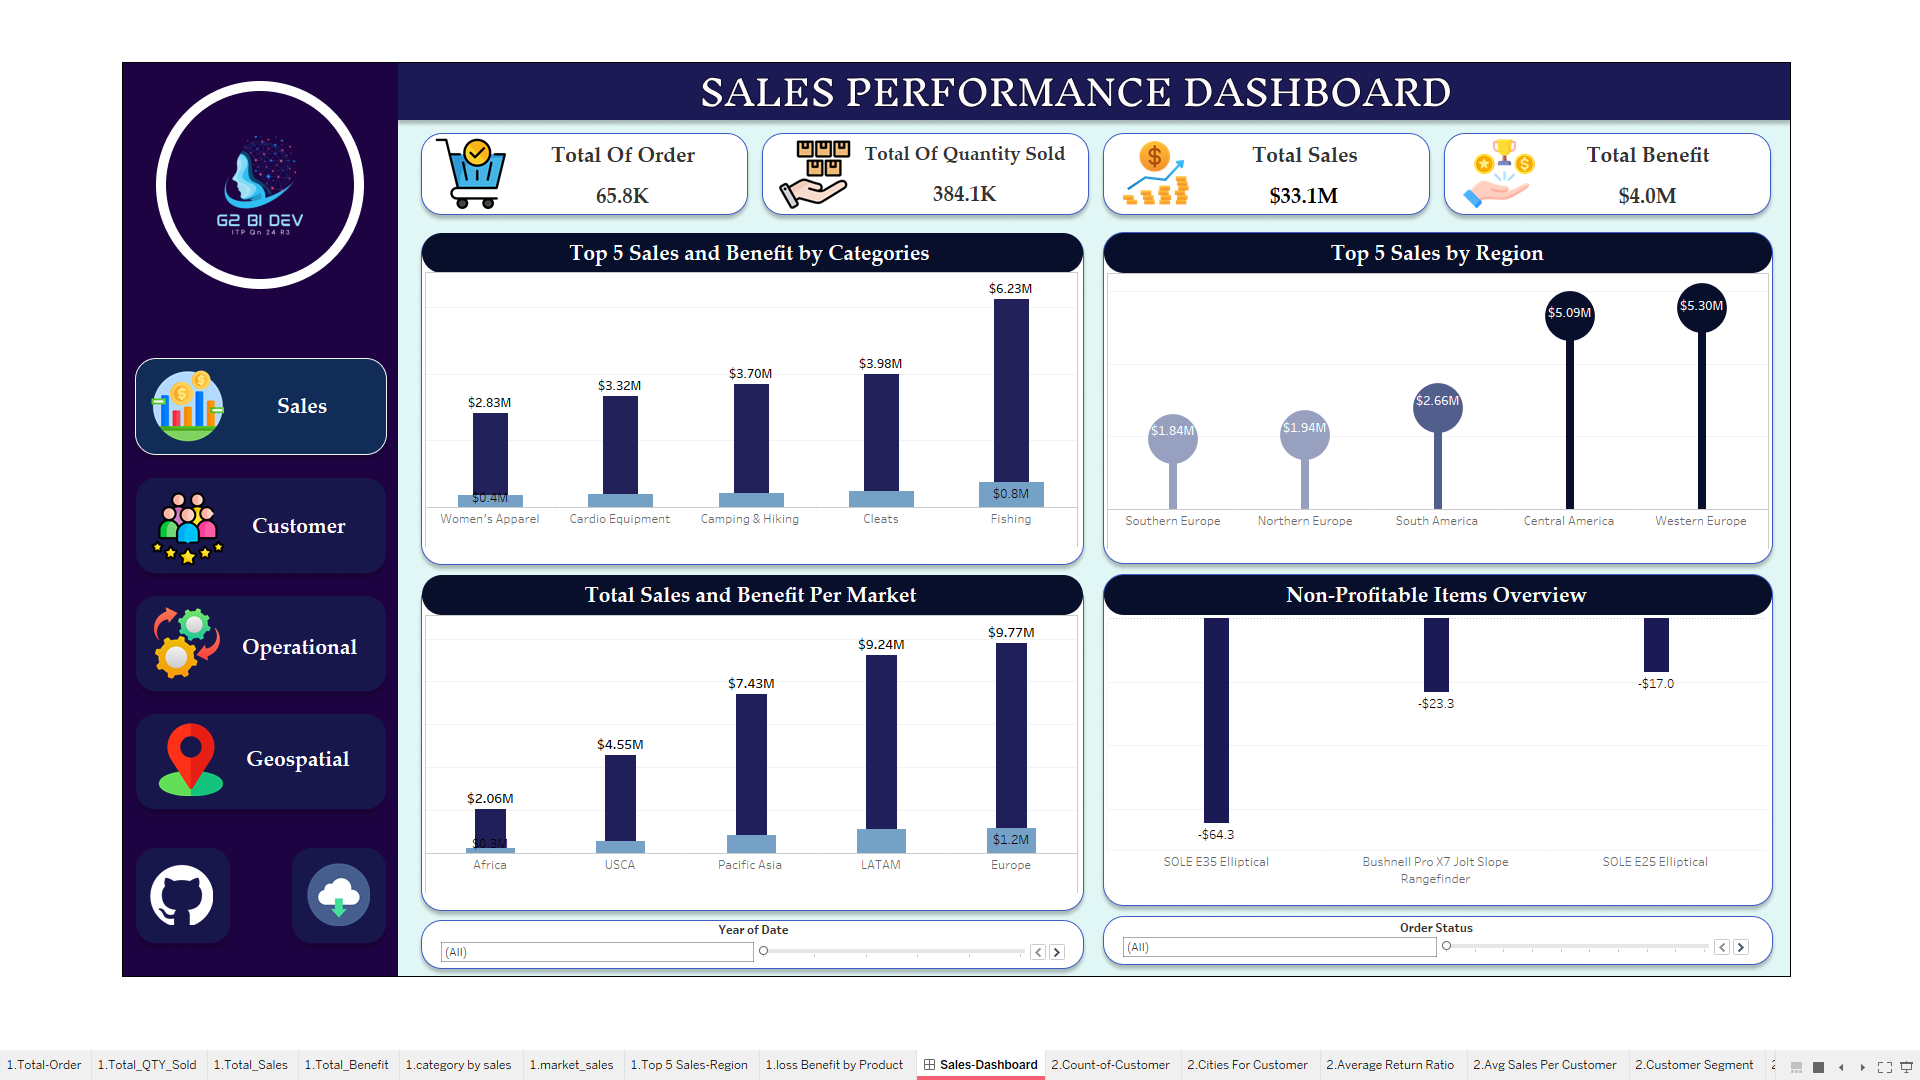

This screenshot's page, from the dashboard's own definition file:
{"tool":"tableau","page":{"name":"Sales-Dashboard","canvas":[1700,950],"ordinal":4},"visuals":[{"type":"image","param":"C:/Users/mahmo/OneDrive/Desktop/Sales/background/New folder (2)/Sales.png","box":[8,8,1684,934]},{"type":"image","param":"C:/Users/mahmo/OneDrive/Desktop/Sales-project/ICONS/total_order.png","box":[321,86,80,75]},{"type":"worksheet","title":"1.Total-Order","mark":"Automatic","box":[408,86,210,75]},{"type":"worksheet","title":"1.Total_QTY_Sold","mark":"Automatic","box":[750,86,210,75]},{"type":"image","param":"C:/Users/mahmo/OneDrive/Desktop/Sales-project/ICONS/total_sales.png","box":[1006,86,80,75]},{"type":"worksheet","title":"1.Total_Sales","mark":"Automatic","box":[1090,86,210,75]},{"type":"image","param":"C:/Users/mahmo/OneDrive/Desktop/Sales-project/ICONS/total_benefit.png","box":[1349,86,80,75]},{"type":"worksheet","title":"1.Total_Benefit","mark":"Automatic","box":[1433,86,210,75]},{"type":"image","param":"C:/Users/mahmo/OneDrive/Desktop/Sales-project/ICONS/total_QTY.png","box":[665,88,80,73]},{"type":"text","box":[1015,183,625,38]},{"type":"text","box":[325,184,629,36]},{"type":"worksheet","title":"1.category by sales","mark":"Automatic","rows":["Total_Sales","BenifitPerOrder"],"cols":["Category_Name"],"box":[315,222,653,276]},{"type":"worksheet","title":"1.Top 5 Sales-Region","mark":"Automatic","rows":["Total_Sales","Total_Sales"],"cols":["Rejon_Name"],"box":[997,223,662,277]},{"type":"image","param":"C:/Users/mahmo/OneDrive/Desktop/Sales-project/ICONS/sales-dashboard.png","box":[41,308,73,95]},{"type":"dashboard-object","box":[116,320,153,70]},{"type":"image","param":"C:/Users/mahmo/OneDrive/Desktop/Sales-project/ICONS/customer-dashboard.png","box":[41,431,73,95]},{"type":"dashboard-object","box":[113,440,153,70]},{"type":"text","box":[328,525,625,38]},{"type":"text","box":[1015,527,623,34]},{"type":"image","param":"C:/Users/mahmo/OneDrive/Desktop/Sales-project/ICONS/operational-dashboard.png","box":[40,545,73,95]},{"type":"dashboard-object","box":[114,562,153,69]},{"type":"worksheet","title":"1.market_sales","mark":"Automatic","rows":["Total_Sales","BenifitPerOrder"],"cols":["Market_Name"],"box":[315,565,653,279]},{"type":"worksheet","title":"1.loss Benefit by Product","mark":"Line","rows":["Calculation_348466078747049984"],"cols":["Product_Name"],"box":[997,568,659,272]},{"type":"image","param":"C:/Users/mahmo/OneDrive/Desktop/Sales-project/ICONS/geo-dashboard.png","box":[44,662,73,95]},{"type":"dashboard-object","box":[114,674,153,69]},{"type":"image","param":"C:/Users/mahmo/OneDrive/Desktop/Sales-project/ICONS/github-mark-white.png","box":[40,810,63,70]},{"type":"dashboard-object","box":[197,810,63,70]},{"type":"filter","title":"1.Total-Order","param":"[federated.0a7f3eg1xpprtt1e4fdhm1t957b5].[none:Order_Status:nk]","box":[1010,869,633,42]},{"type":"filter","title":"1.Total-Order","param":"[federated.0a7f3eg1xpprtt1e4fdhm1t957b5].[yr:Date:ok]","box":[328,871,631,44]}]}

Visuals, with their boxes on the page's 1700x950 design canvas (x1, y1, x2, y2). These are canvas units, not pixel positions in the 1920x1080 screenshot, which may show the page scaled, cropped or inside an application window:
image: (left=8, top=8, right=1692, bottom=942)
image: (left=321, top=86, right=401, bottom=161)
"1.Total-Order" worksheet: (left=408, top=86, right=618, bottom=161)
"1.Total_QTY_Sold" worksheet: (left=750, top=86, right=960, bottom=161)
image: (left=1006, top=86, right=1086, bottom=161)
"1.Total_Sales" worksheet: (left=1090, top=86, right=1300, bottom=161)
image: (left=1349, top=86, right=1429, bottom=161)
"1.Total_Benefit" worksheet: (left=1433, top=86, right=1643, bottom=161)
image: (left=665, top=88, right=745, bottom=161)
text: (left=1015, top=183, right=1640, bottom=221)
text: (left=325, top=184, right=954, bottom=220)
"1.category by sales" worksheet: (left=315, top=222, right=968, bottom=498)
"1.Top 5 Sales-Region" worksheet: (left=997, top=223, right=1659, bottom=500)
image: (left=41, top=308, right=114, bottom=403)
dashboard-object: (left=116, top=320, right=269, bottom=390)
image: (left=41, top=431, right=114, bottom=526)
dashboard-object: (left=113, top=440, right=266, bottom=510)
text: (left=328, top=525, right=953, bottom=563)
text: (left=1015, top=527, right=1638, bottom=561)
image: (left=40, top=545, right=113, bottom=640)
dashboard-object: (left=114, top=562, right=267, bottom=631)
"1.market_sales" worksheet: (left=315, top=565, right=968, bottom=844)
"1.loss Benefit by Product" worksheet (Line marks): (left=997, top=568, right=1656, bottom=840)
image: (left=44, top=662, right=117, bottom=757)
dashboard-object: (left=114, top=674, right=267, bottom=743)
image: (left=40, top=810, right=103, bottom=880)
dashboard-object: (left=197, top=810, right=260, bottom=880)
"1.Total-Order" filter: (left=1010, top=869, right=1643, bottom=911)
"1.Total-Order" filter: (left=328, top=871, right=959, bottom=915)
